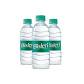Bisleri: (32, 42, 48, 51), (50, 41, 62, 50), (20, 42, 29, 50)
